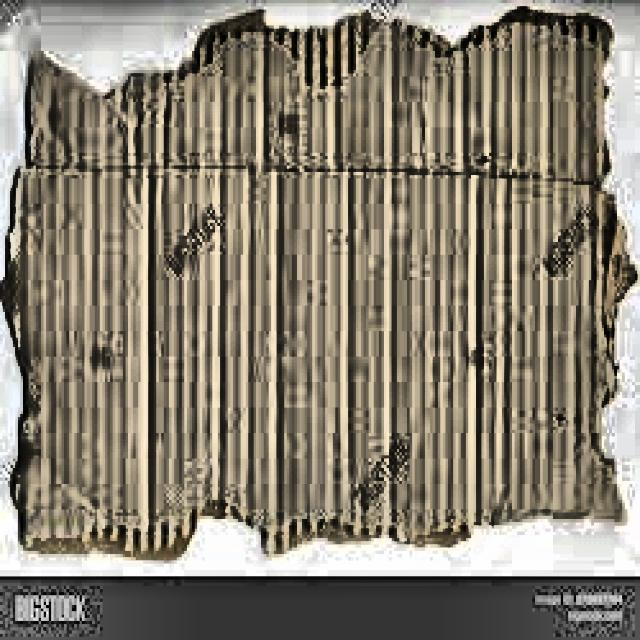cardboard: (0, 3, 635, 557)
